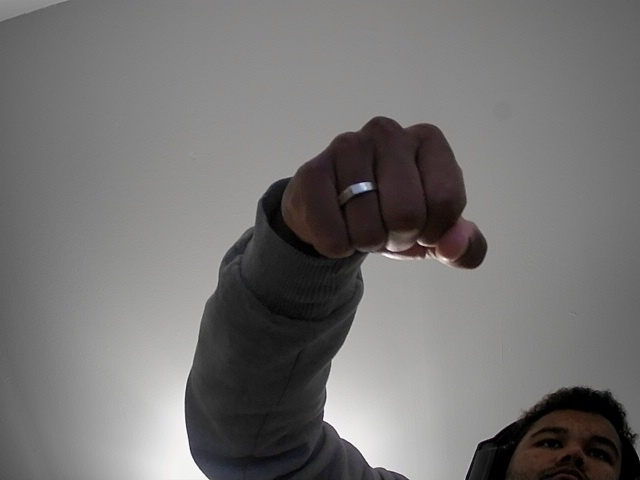Yes: (258, 103, 509, 287)
